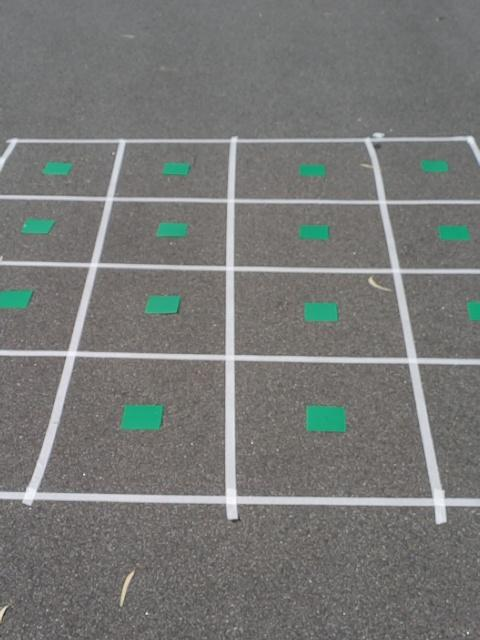weed: (307, 403, 349, 432), (122, 403, 164, 431), (0, 288, 35, 309), (304, 301, 339, 322), (145, 294, 181, 314), (436, 222, 470, 241), (299, 222, 331, 241), (155, 223, 189, 237), (22, 219, 55, 232), (300, 161, 325, 177), (44, 161, 74, 174), (162, 162, 191, 175), (421, 159, 449, 172), (467, 298, 480, 320)
